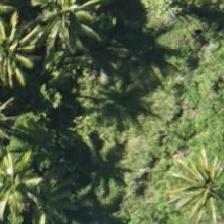coconut_tree: (11, 0, 101, 64), (0, 139, 56, 223), (162, 147, 223, 223)
